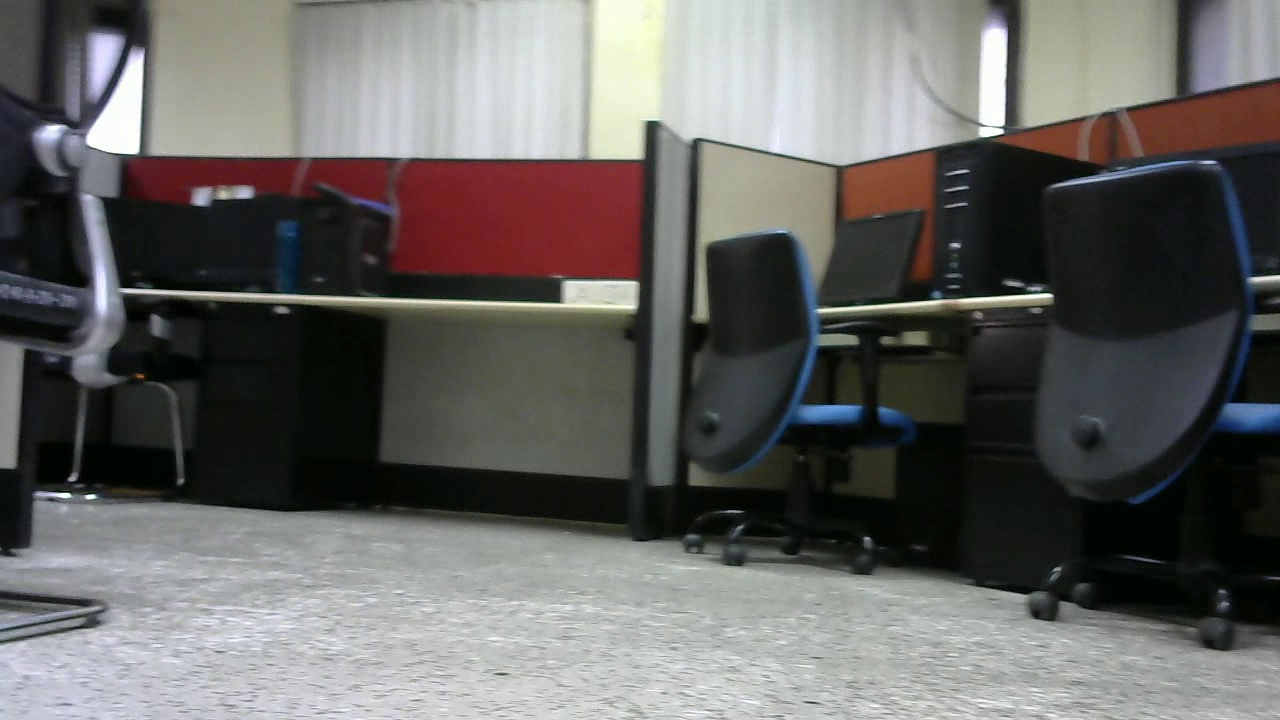chair: (1030, 162, 1280, 650), (677, 232, 919, 585)
